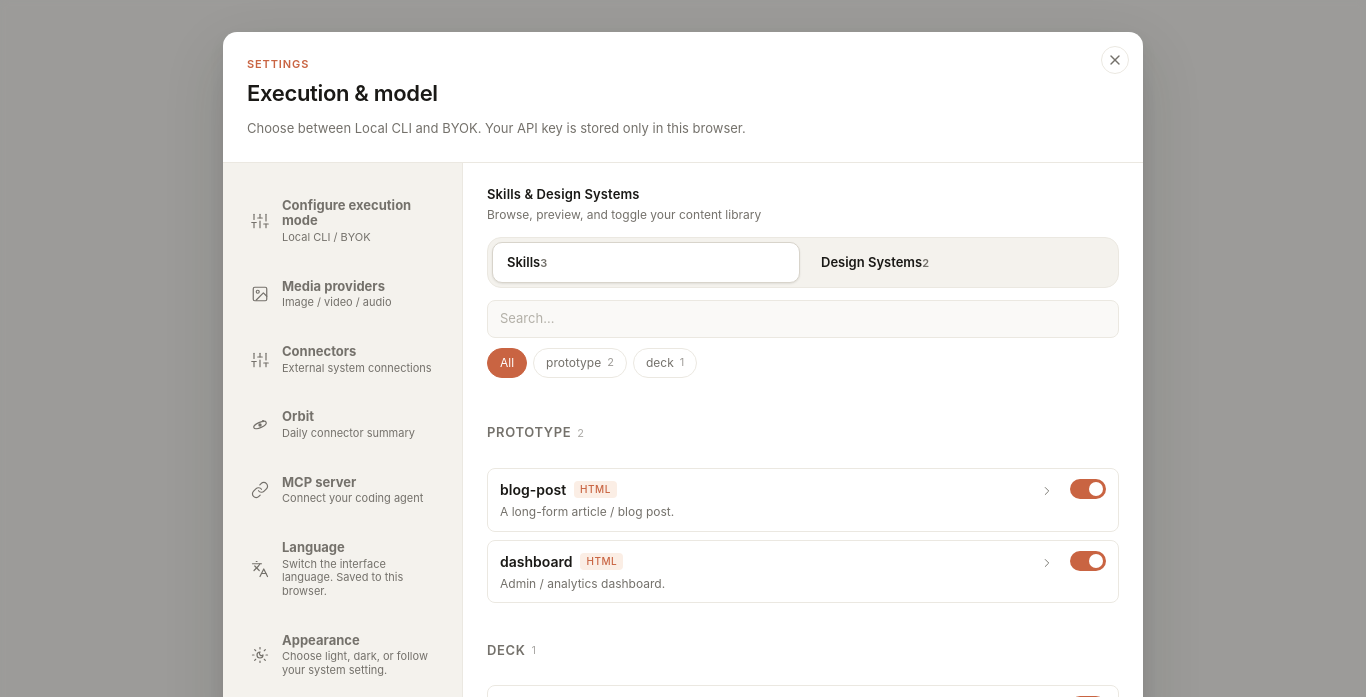
SettingsDialog skills and design systems interactions › shows an empty state when library search returns no results
Check: the text "blog-post" is shown, box [500,479,566,500]
Type "zzz-no-match" into the search field with placeholder "Search..." at x=803, y=319, box [487,300,1119,338]
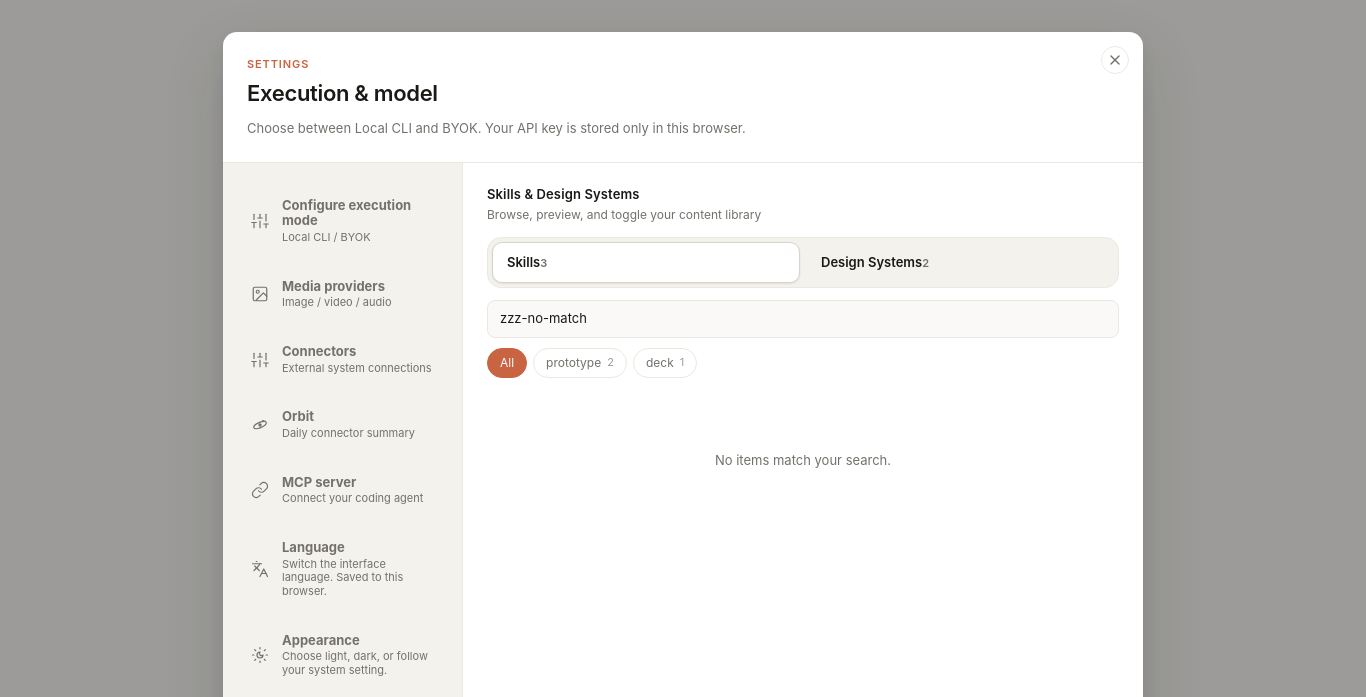
Check: the text "No items match your search." is shown, box [715,452,891,468]
